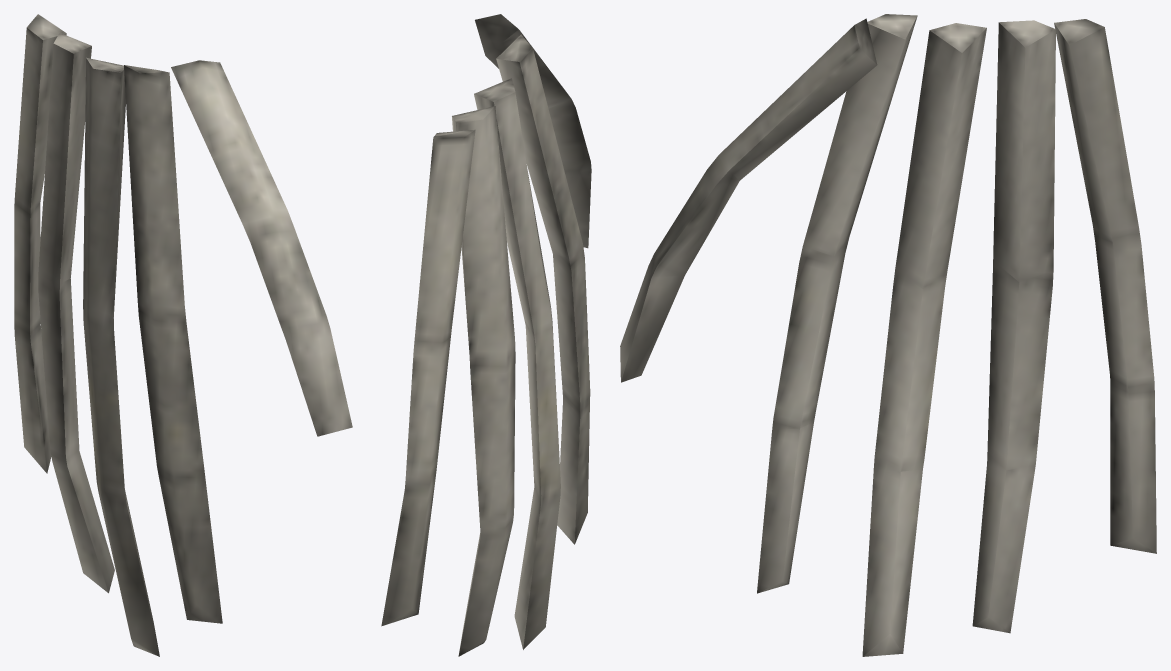
Rendered from manoDer.obj.
3 renders of one model, left to right at view 1: azimuth 30°, elevation 25°; view 2: azimuth 150°, elevation 25°; view 3: azimuth 270°, elevation 25°, orthographic. The views are drawn at different scales.
Visible parts, largest first — view 1: manoDer; view 2: manoDer; view 3: manoDer.
Boxes of the visible parts, x1,y1,x2,y2 form: manoDer: (14, 14, 352, 656); manoDer: (381, 14, 591, 656); manoDer: (620, 14, 1156, 656).
Size of the model in its own units: 0.0413 by 0.1785 by 0.1331.
Materials: 1 (1 with a texture image).
